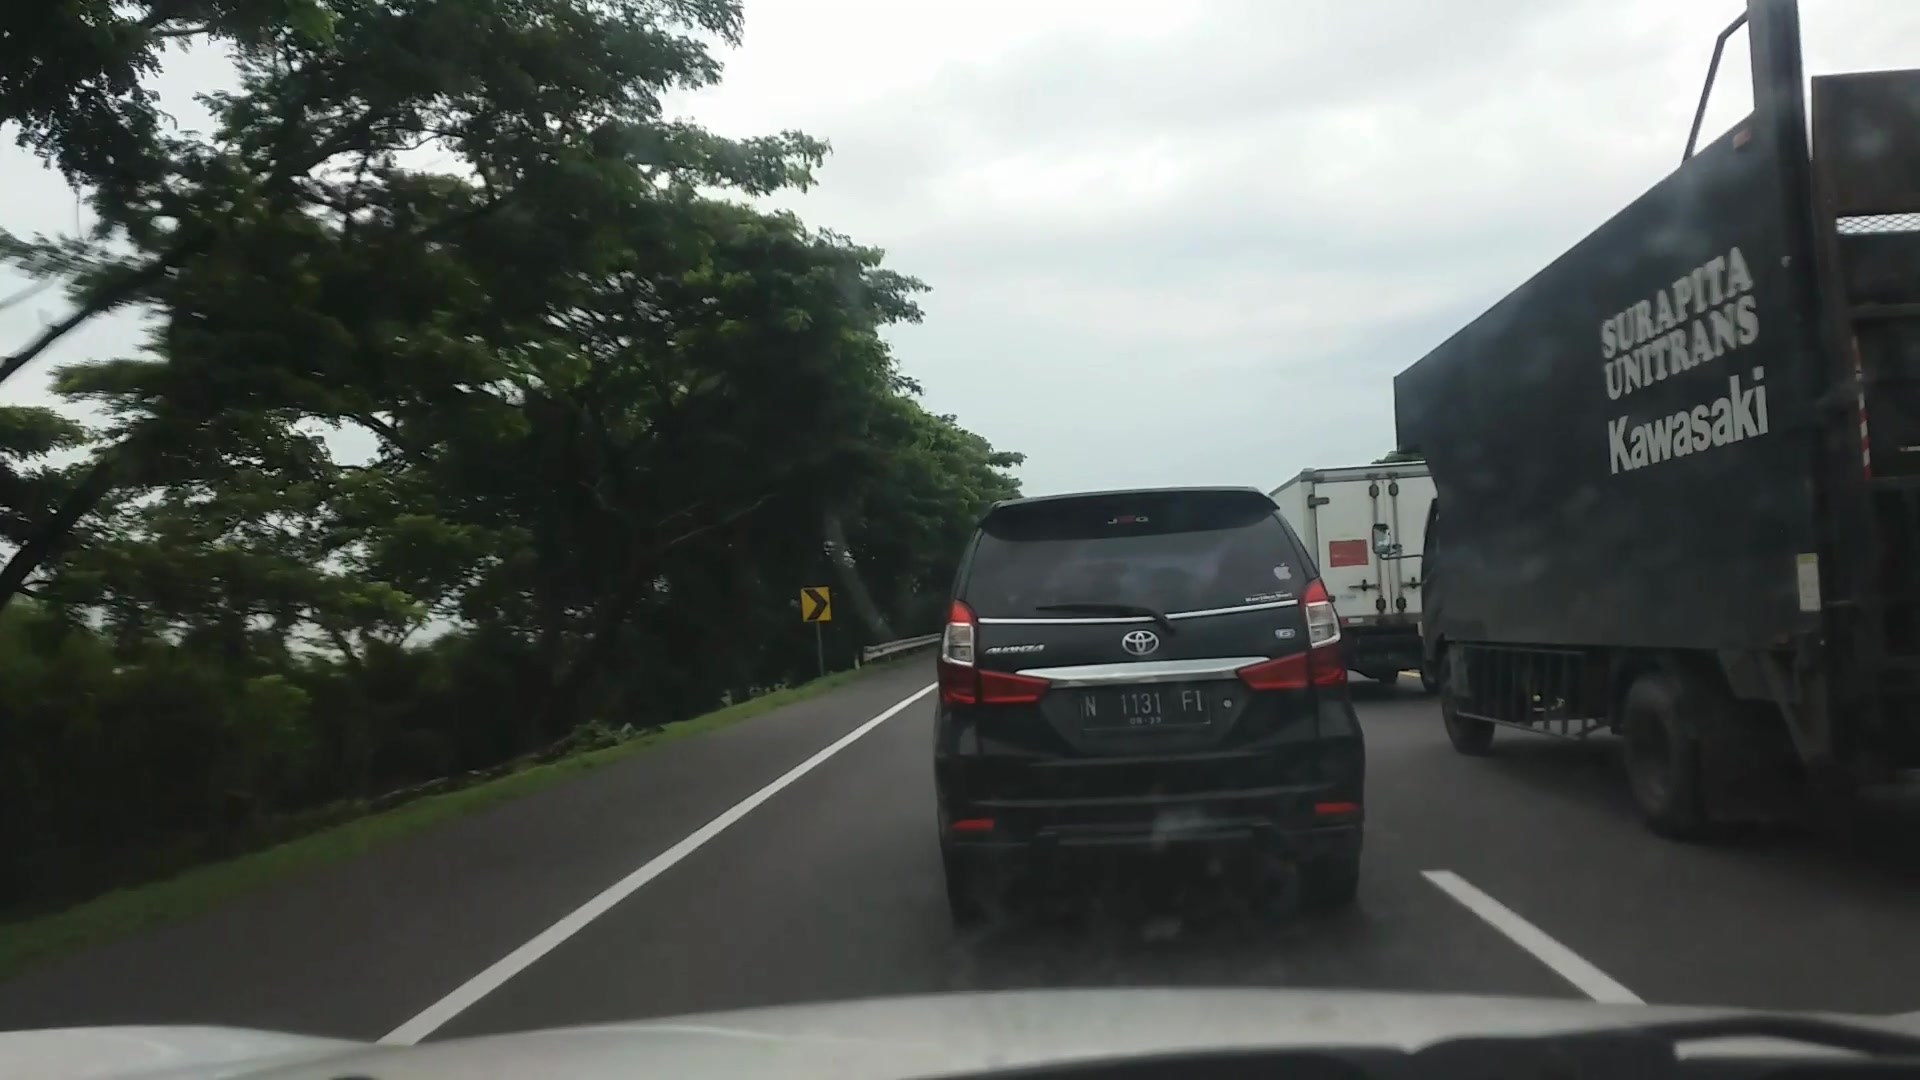plate_positive: (1080, 686, 1211, 727)
